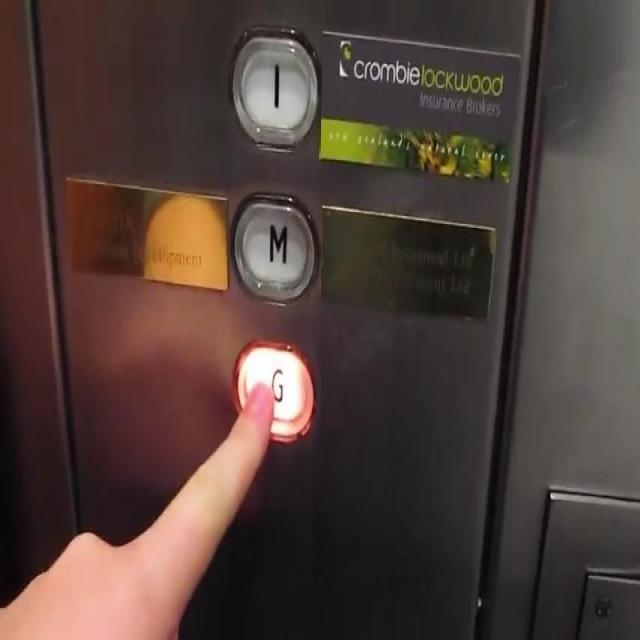1: (224, 16, 321, 153)
G: (225, 334, 316, 446)
M: (229, 186, 320, 298)
